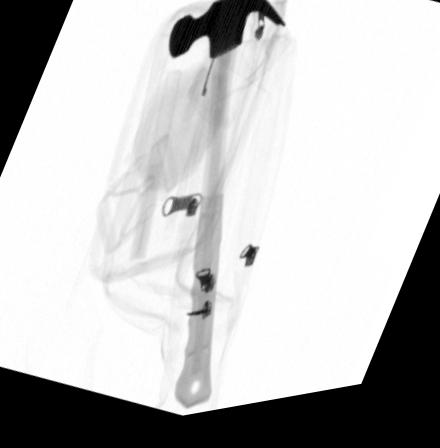Hammer: (167, 0, 286, 418)
